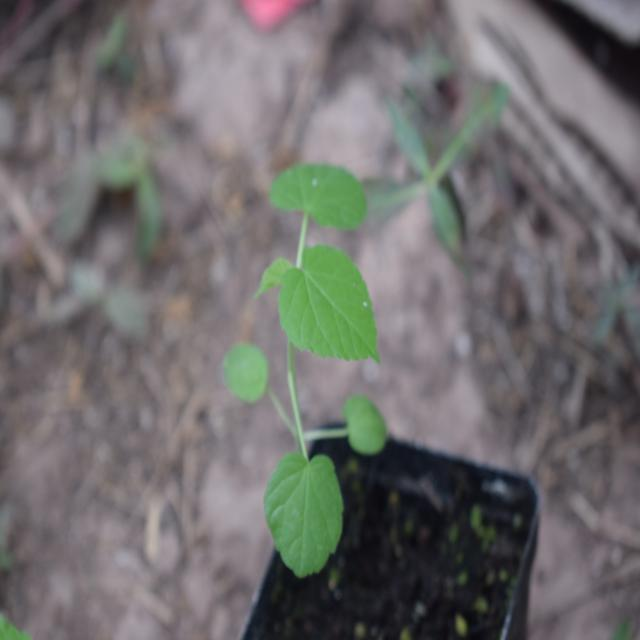abutilon theophrasti: (232, 136, 405, 578)
